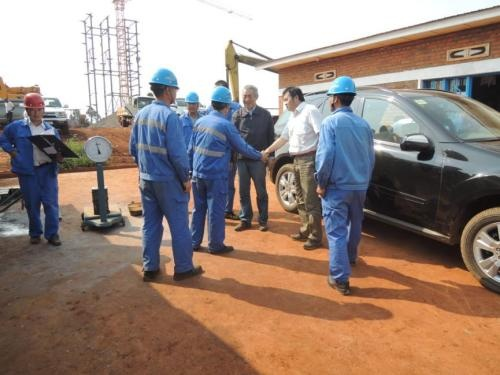blue: (148, 67, 180, 105), (326, 75, 358, 111), (209, 86, 234, 114), (184, 91, 200, 115)
none: (281, 85, 303, 111), (240, 84, 260, 108)
red: (22, 92, 46, 122)
